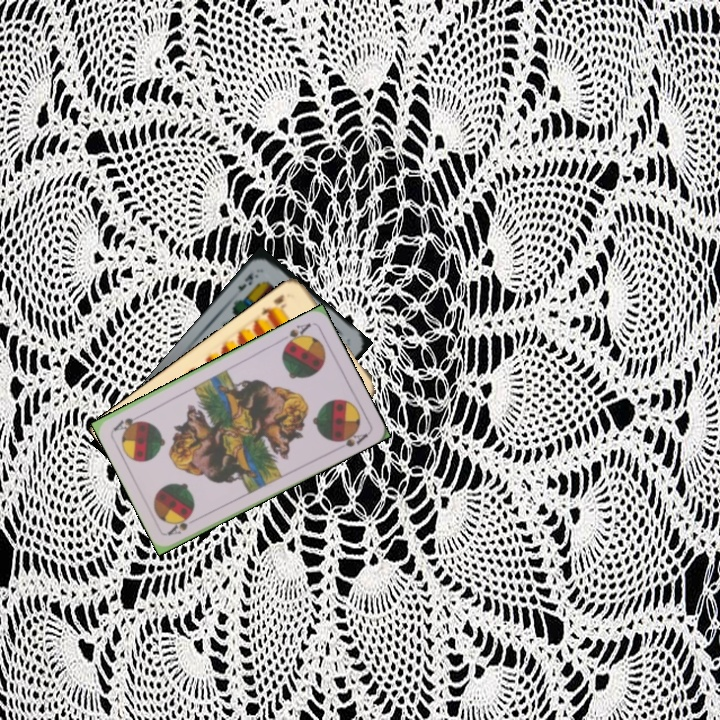E10: (257, 290, 289, 321)
EK: (234, 269, 261, 294)
SA: (280, 319, 314, 349), (164, 511, 201, 538)
